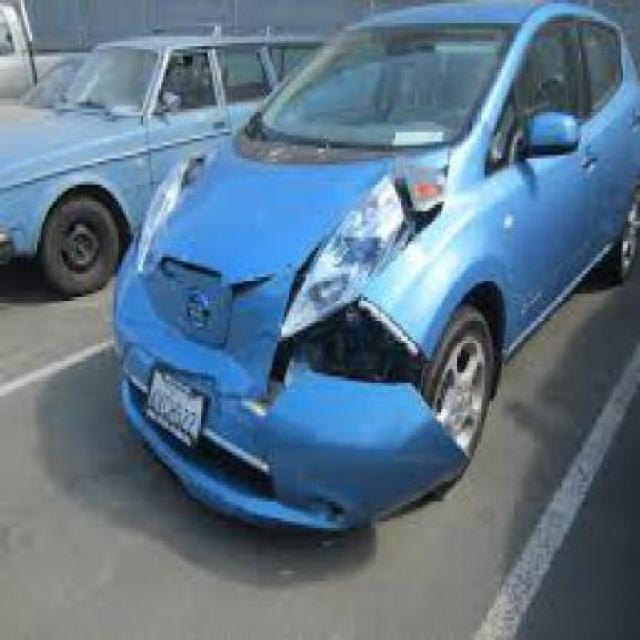damaged-front-bumper: (118, 340, 464, 511)
